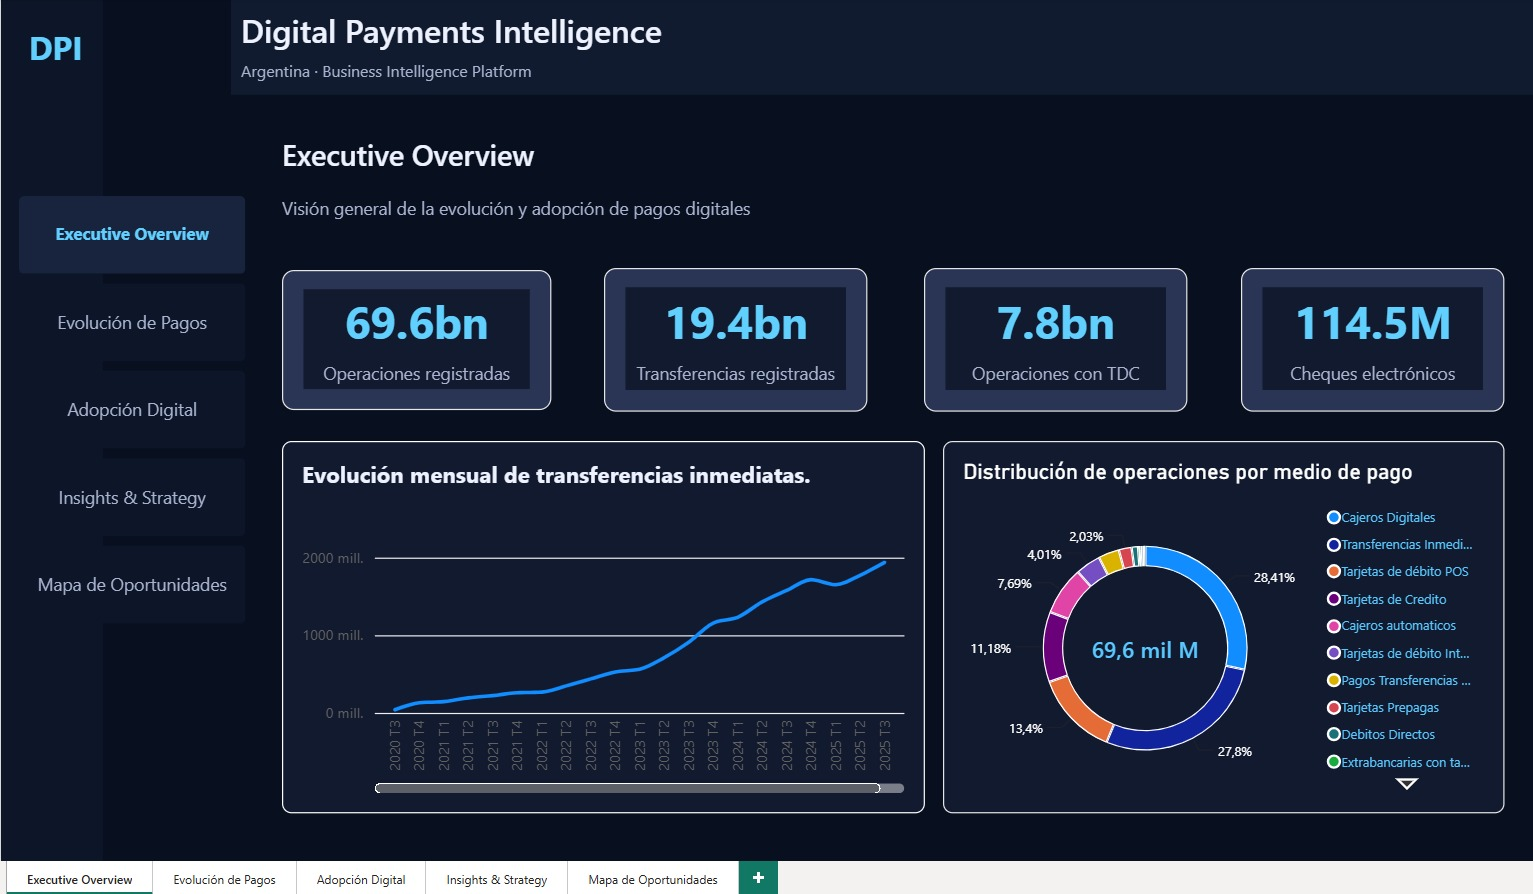

This screenshot's page, from the dashboard's own definition file:
{"tool":"powerbi","page":{"name":"Executive Overview","canvas":[1280,720],"ordinal":0},"visuals":[{"type":"shape","box":[0,0,85,720],"z":0},{"type":"shape","box":[192.5,0,1088,80],"z":1000},{"type":"textbox","box":[200.1,7.8,391.6,45.7],"z":2000},{"type":"textbox","box":[200.1,50,261.3,30.2],"z":3000},{"type":"textbox","box":[23.3,21.6,93.2,56.9],"z":4000},{"type":"pageNavigator","box":[14.7,164.7,189.8,359.7],"z":5000},{"type":"textbox","box":[234.4,113.3,245,43.1],"z":6000},{"type":"textbox","box":[234.4,164.4,433.3,36.7],"z":7000},{"type":"advanceCardE03760C5AB684758B56AA29F9E6C257B","fields":{"mainMeasure":["Medidas.Total_Transacciones"]},"box":[234.4,226.7,224.9,117.4],"z":8000},{"type":"advanceCardE03760C5AB684758B56AA29F9E6C257B","fields":{"mainMeasure":["Calendario.Total_Transferencias"]},"box":[503.3,224.4,220.1,119.8],"z":9000},{"type":"advanceCardE03760C5AB684758B56AA29F9E6C257B","fields":{"mainMeasure":["Calendario.Total_Cant_Tarjetas_Credito"]},"box":[771.1,224.4,220.1,119.8],"z":10000},{"type":"advanceCardE03760C5AB684758B56AA29F9E6C257B","fields":{"mainMeasure":["Calendario.Total_Cant_Cheques_Electronicos"]},"box":[1035.6,224.4,220.1,119.8],"z":11000},{"type":"lineChart","title":"Evolución mensual de transferencias inmediatas.","fields":{"Category":["Calendario.Año_Trimestre"],"Y":["Medidas.Total_Cant_Transferencias"]},"box":[234.4,368.9,536.7,311.1],"z":12000},{"type":"donutChart","title":"Distribución de operaciones por medio de pago","fields":{"Category":["Dim_Conformada.Nombre"],"Y":["Sum(Fact_Transacciones.Cantidades)"]},"box":[786.7,368.9,468.9,311.1],"z":13000}]}

Visuals, with their boxes on the page's 1280x720 design canvas (x1, y1, x2, y2). These are canvas units, not pixel positions in the 1533x894 screenshot, which may show the page scaled, cropped or inside an application window:
shape: 0 0 85 720
shape: 192 0 1280 80
textbox: 200 8 592 54
textbox: 200 50 461 80
textbox: 23 22 116 78
pageNavigator: 15 165 204 524
textbox: 234 113 479 156
textbox: 234 164 668 201
advanceCardE03760C5AB684758B56AA29F9E6C257B - Medidas.Total_Transacciones: 234 227 459 344
advanceCardE03760C5AB684758B56AA29F9E6C257B - Calendario.Total_Transferencias: 503 224 723 344
advanceCardE03760C5AB684758B56AA29F9E6C257B - Calendario.Total_Cant_Tarjetas_Credito: 771 224 991 344
advanceCardE03760C5AB684758B56AA29F9E6C257B - Calendario.Total_Cant_Cheques_Electronicos: 1036 224 1256 344
"Evolución mensual de transferencias inmediatas." lineChart: 234 369 771 680
"Distribución de operaciones por medio de pago" donutChart: 787 369 1256 680
